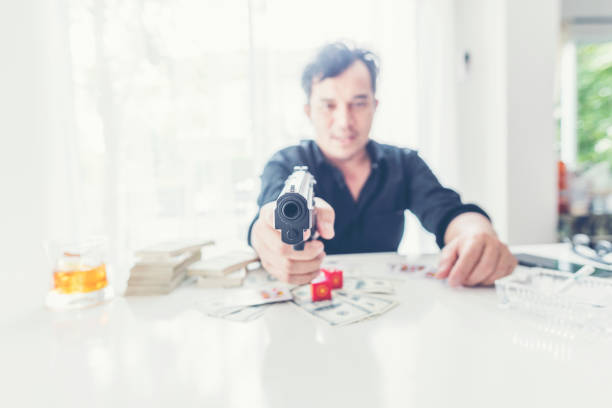gun: (272, 166, 317, 253)
